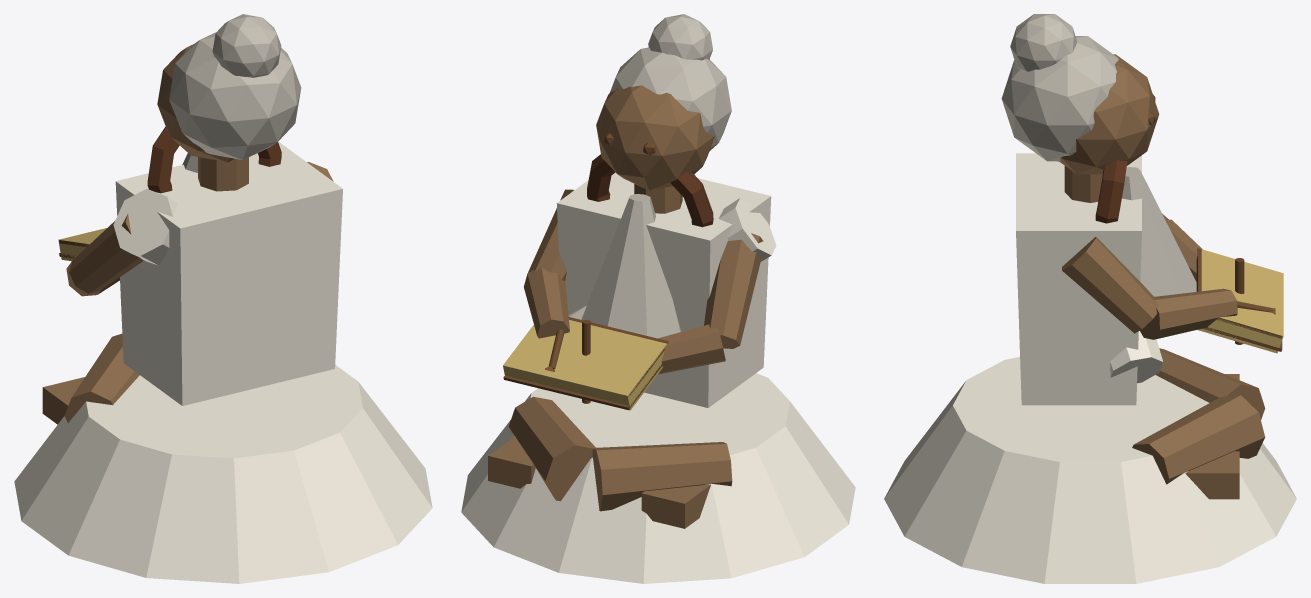
Rendered from sangam_scholar.glb.
The picture shows the model from 3 angles, left to right: view 1: azimuth 30°, elevation 25°; view 2: azimuth 150°, elevation 25°; view 3: azimuth 270°, elevation 25°; orthographic projection. The views are drawn at different scales.
Parts seen in each view (by area): view 1: lap; view 2: lap; view 3: lap.
Boxes of the visible parts, <box> form: lap: <box>14,14,432,583</box>; lap: <box>461,14,855,583</box>; lap: <box>884,14,1296,583</box>.
Size of the model in its own units: 0.7019 by 0.93 by 0.72.
